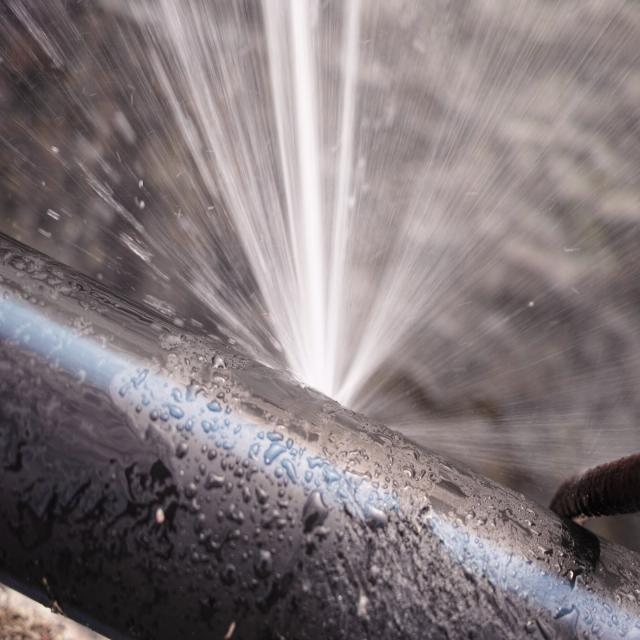pipe burst: (3, 0, 640, 434)
